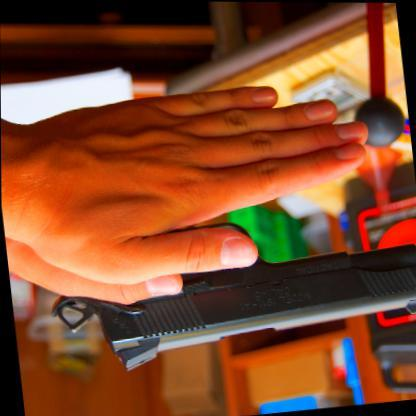pistol: (37, 184, 415, 383)
